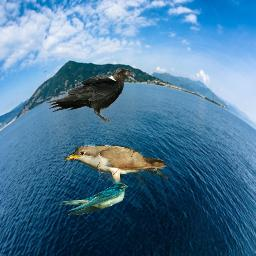Crow: (45, 67, 136, 123)
Cuckoo: (64, 144, 168, 193)
Swallow: (54, 182, 128, 215)
